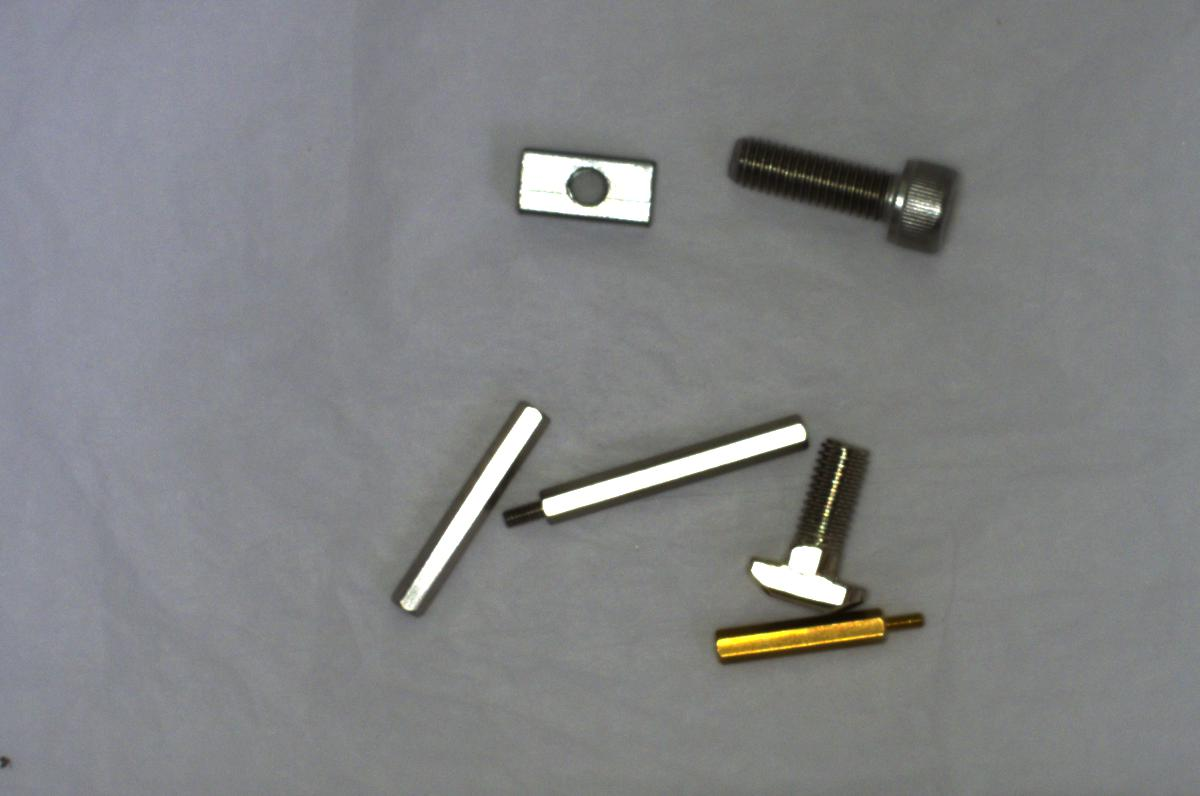Double hexagonal column: (381, 387, 544, 620)
Hexagon pillar: (719, 596, 935, 662)
Hexagon screw: (712, 126, 964, 260)
Hexagonal steel column: (495, 408, 813, 530)
Rectangular nut: (511, 142, 661, 226)
T-shaped screw: (742, 434, 885, 607)
